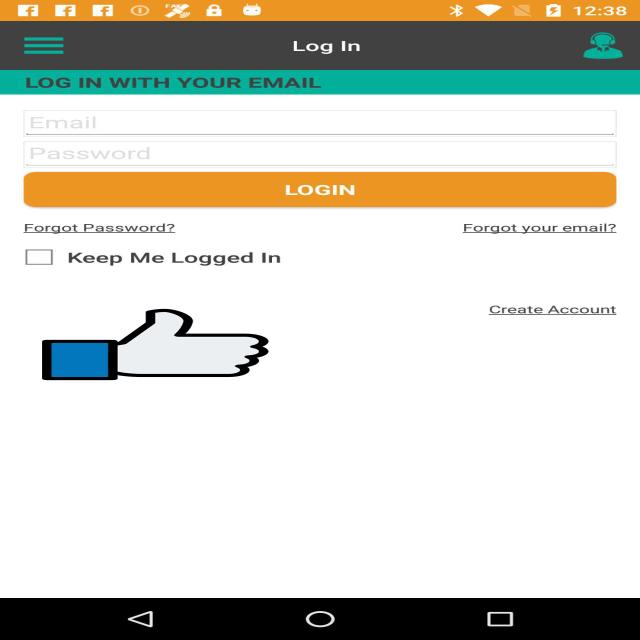privacy zuckering: (42, 307, 269, 382)
